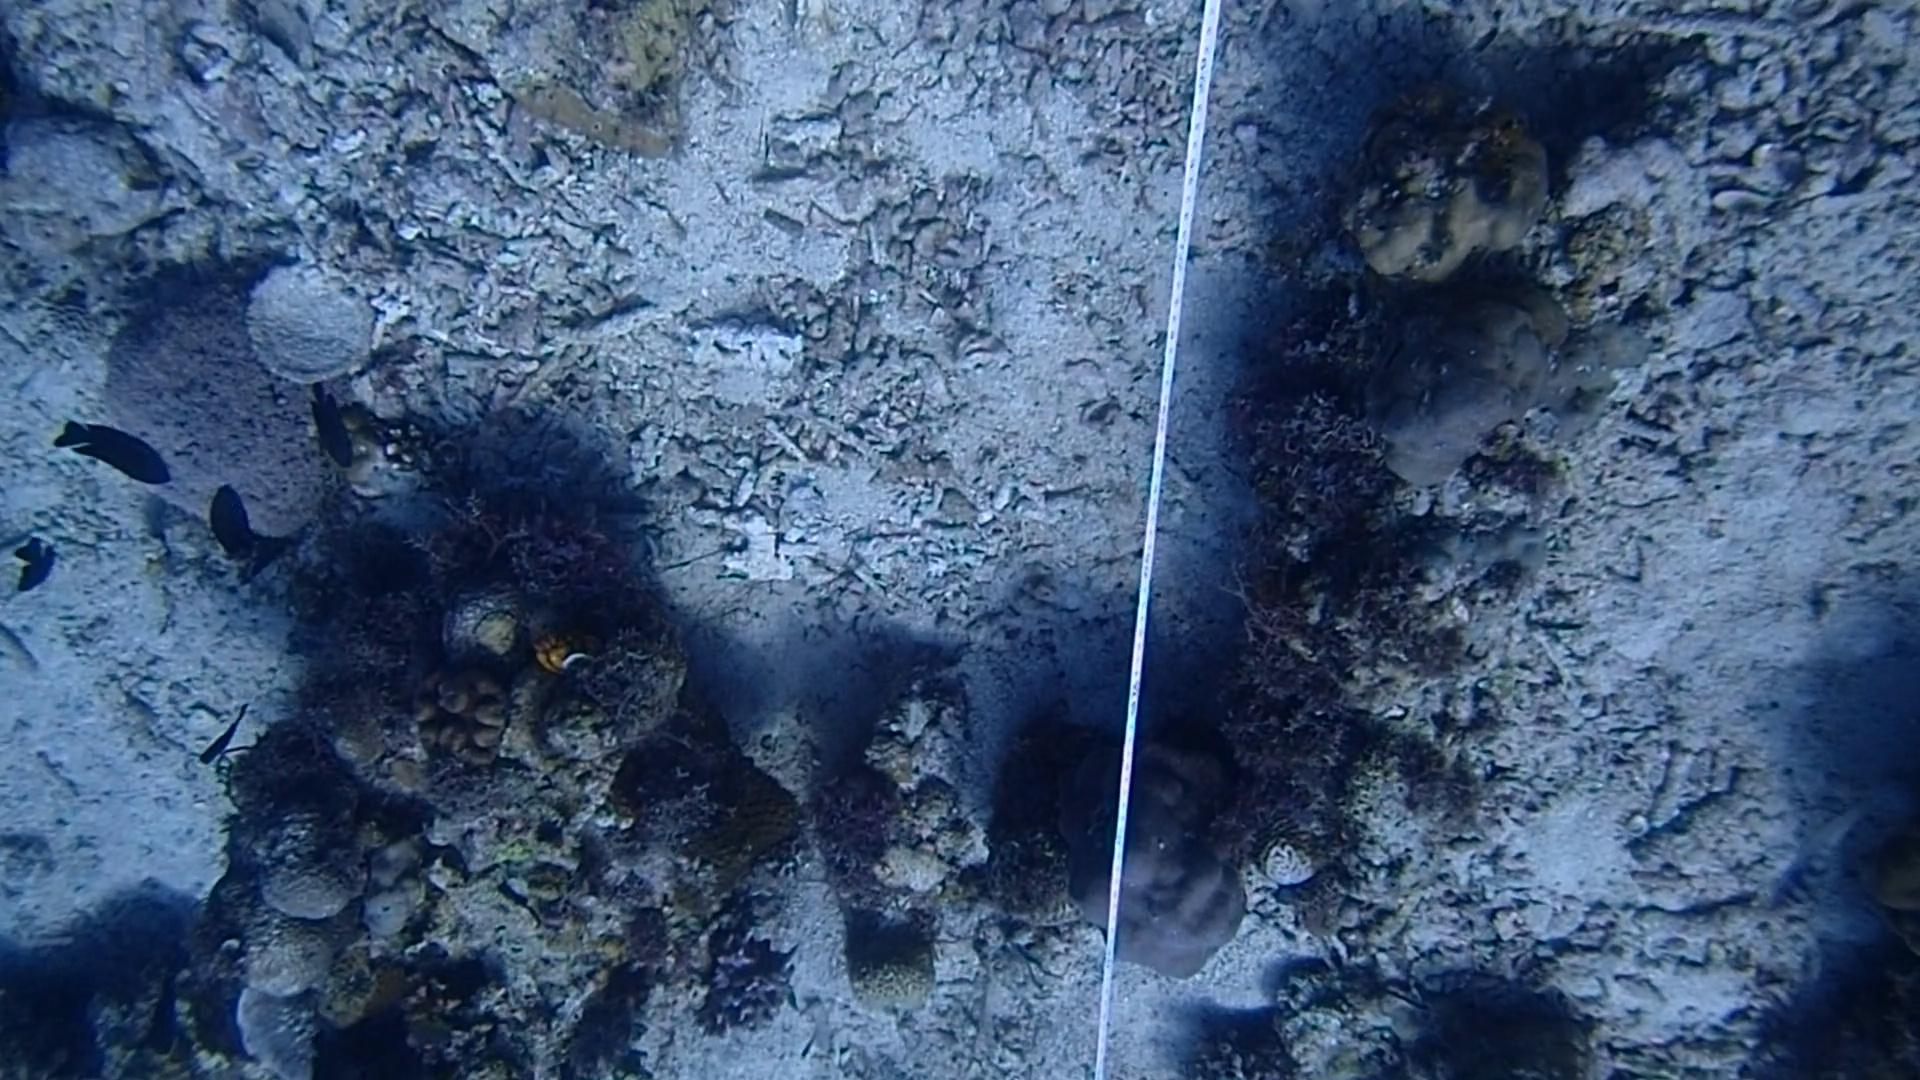Dark Fish: (50, 409, 183, 497), (190, 484, 293, 589), (289, 377, 376, 473), (8, 525, 74, 611), (185, 700, 261, 774), (138, 969, 185, 1071)
Light Fish w Back Stripes: (1746, 803, 1874, 930)
